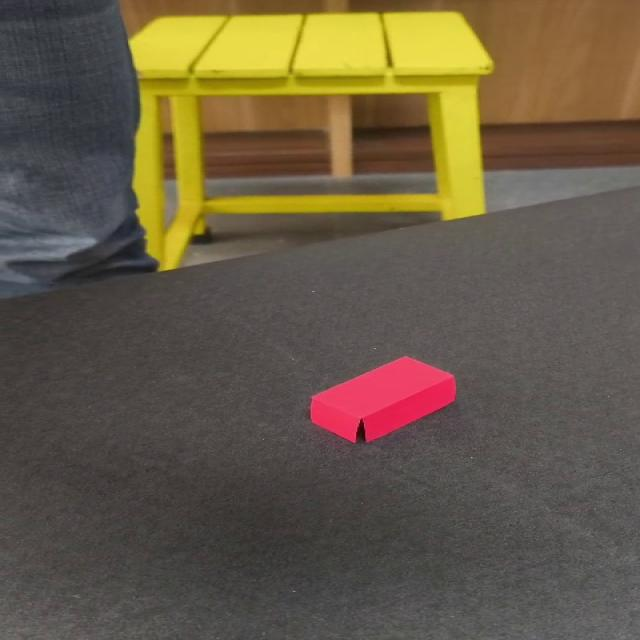red block: (308, 355, 457, 444)
